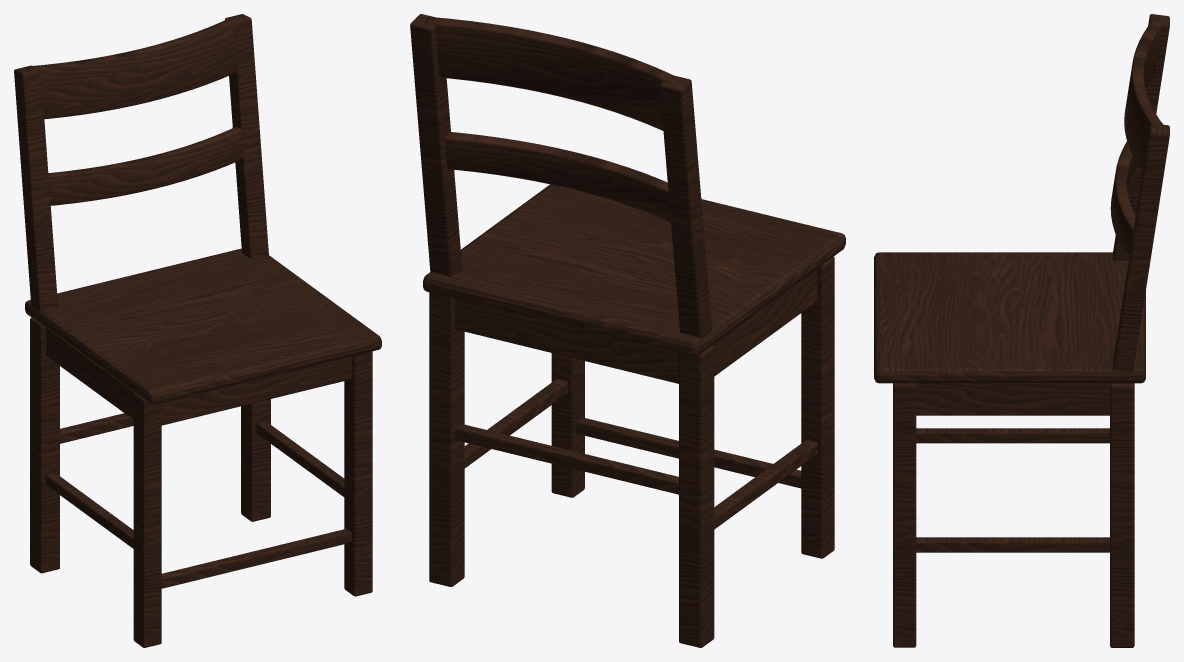
The model's file is exam_chair.glb.
The picture shows the model from 3 angles, left to right: view 1: azimuth 30°, elevation 25°; view 2: azimuth 150°, elevation 25°; view 3: azimuth 270°, elevation 25°; orthographic projection. The views are drawn at different scales.
Parts seen in each view (by area): view 1: seat, railTop, legF-1, legB-1, railMid, legF1, post-1, post1, apF, legB1, strF, apS-1 (+3 smaller); view 2: seat, railTop, legB-1, legB1, legF-1, railMid, post-1, post1, apB, strB, legF1, apS-1 (+3 smaller); view 3: seat, legB1, apS1, legF1, post1, railTop, strS-1, strS1, railMid, post-1.
Part boxes in pixels (box(x1,y1,x2,y2)): seat: box(25, 248, 381, 404); railTop: box(26, 16, 241, 119); legF-1: box(133, 393, 161, 647); legB-1: box(30, 317, 59, 573); railMid: box(48, 126, 243, 205); legF1: box(344, 351, 372, 596); post-1: box(14, 65, 57, 311); post1: box(225, 14, 268, 258); apF: box(161, 356, 352, 425); legB1: box(241, 399, 270, 521); strF: box(161, 528, 351, 588); apS-1: box(46, 328, 133, 419); seat: box(423, 184, 845, 356); railTop: box(425, 17, 679, 130); legB-1: box(679, 345, 714, 647); legB1: box(429, 292, 464, 586); legF-1: box(801, 256, 834, 558); railMid: box(445, 132, 670, 222); post-1: box(660, 76, 711, 338); post1: box(410, 14, 462, 276); apB: box(455, 298, 678, 383); strB: box(455, 424, 678, 494); legF1: box(551, 353, 584, 497); apS-1: box(713, 269, 816, 376); seat: box(874, 252, 1145, 383); legB1: box(1110, 383, 1134, 647); apS1: box(916, 383, 1109, 415); legF1: box(893, 383, 916, 647); post1: box(1113, 123, 1169, 371); railTop: box(1124, 17, 1164, 171); strS-1: box(916, 428, 1109, 443); strS1: box(916, 537, 1109, 552); railMid: box(1110, 141, 1137, 258); post-1: box(1113, 14, 1169, 260).
Bounding box in the file's own units: 0.42 × 0.8394 × 0.4351.
Materials: 1 (1 with a texture image).
